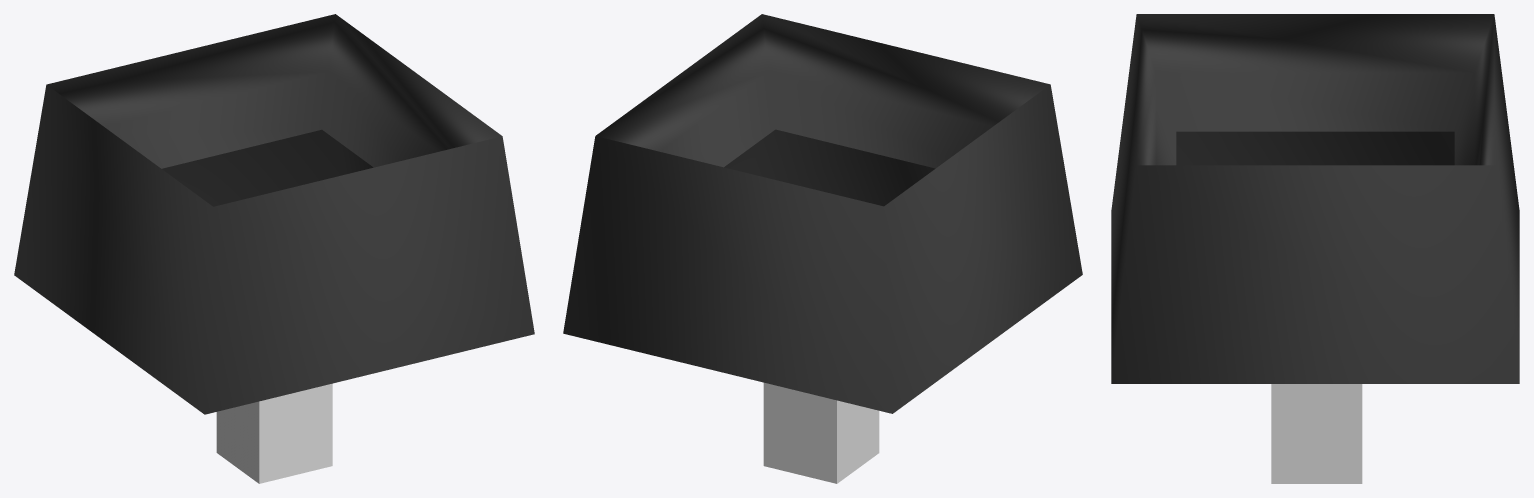
The model's file is wardrobe_lamp.obj.
3 renders of one model, left to right at view 1: azimuth 30°, elevation 25°; view 2: azimuth 150°, elevation 25°; view 3: azimuth 270°, elevation 25°, orthographic. The views are drawn at different scales.
Visible parts, largest first — view 1: pasted__polySurface4; view 2: pasted__polySurface4; view 3: pasted__polySurface4.
Boxes of the visible parts, <box> form: pasted__polySurface4: <box>14,14,534,483</box>; pasted__polySurface4: <box>563,14,1082,483</box>; pasted__polySurface4: <box>1111,14,1519,483</box>.
Size of the model in its own units: 0.243 by 0.2459 by 0.243.
Materials: 2 (2 with a texture image).
